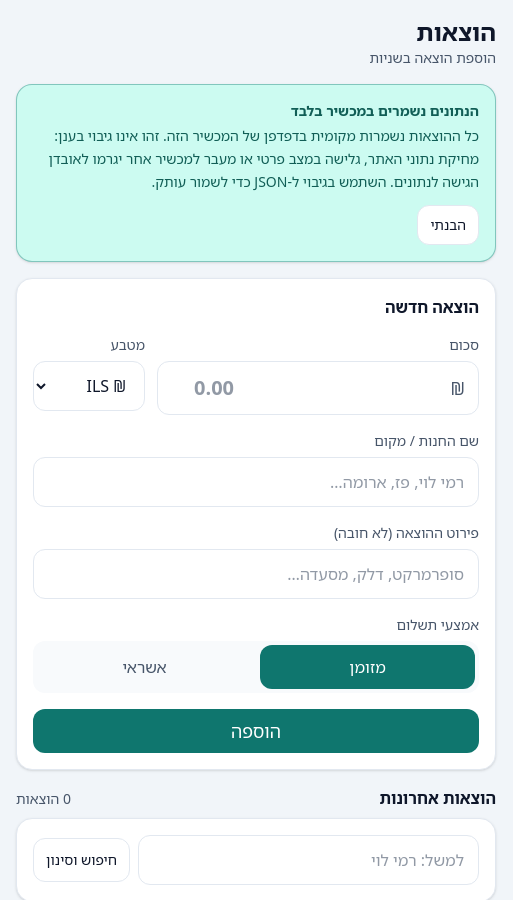
Test: App › מוסיף הוצאה, מציג אותה ברשימה ומעדכן את הסיכומים
Step 1. Type "25.50" into the field labelled "סכום" → [318, 388], box [157,361,479,415]
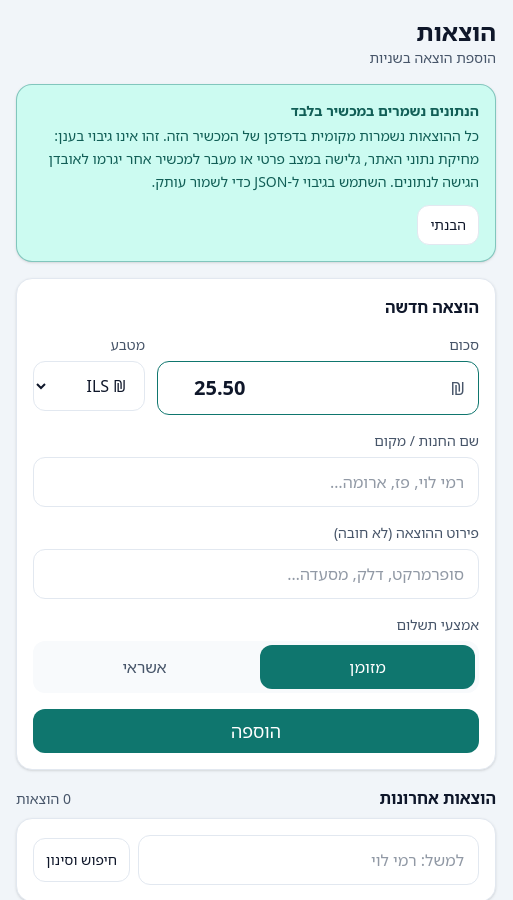
Step 2. Type "פז" into the field labelled "שם החנות / מקום" → [256, 482], box [33,457,479,507]
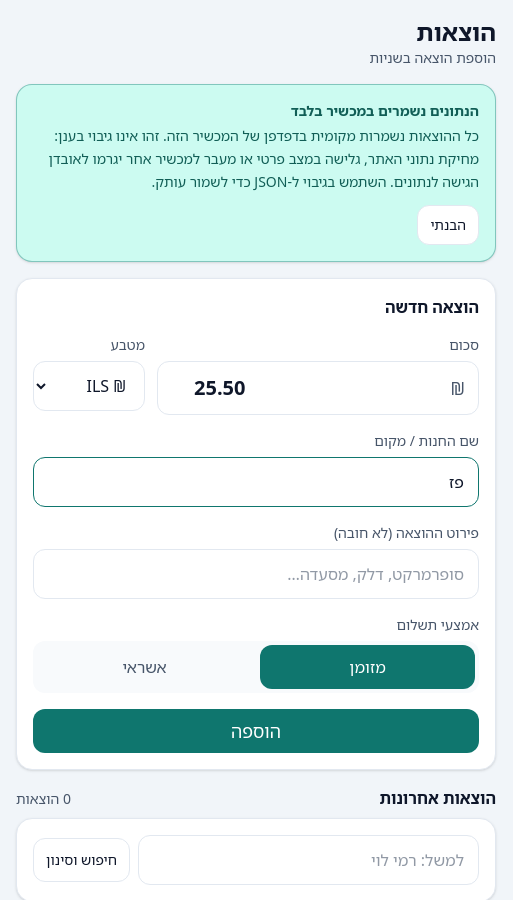
Step 3. Type "דלק 95" into the field labelled "פירוט ההוצאה (לא חובה)" → [256, 574], box [33,549,479,599]
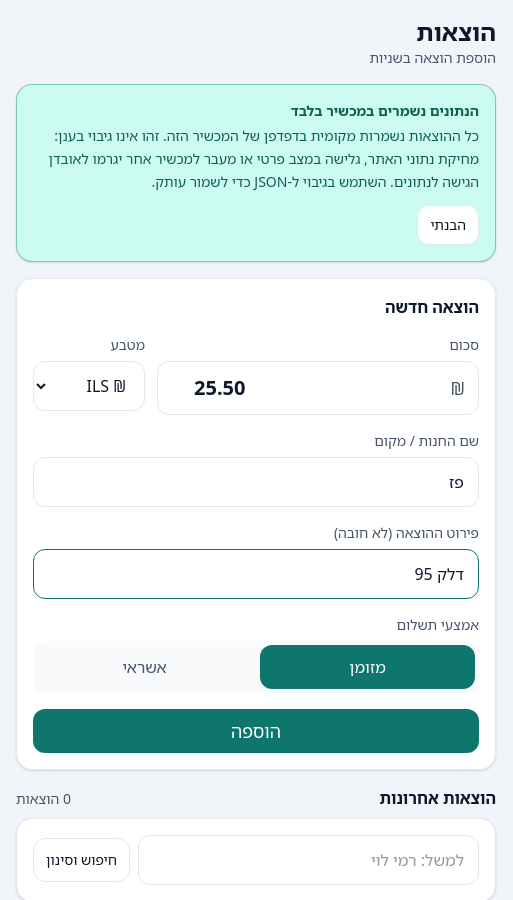
Step 4. Click the button "הוספה" → [256, 731], box [33,709,479,753]
(page scrolled)
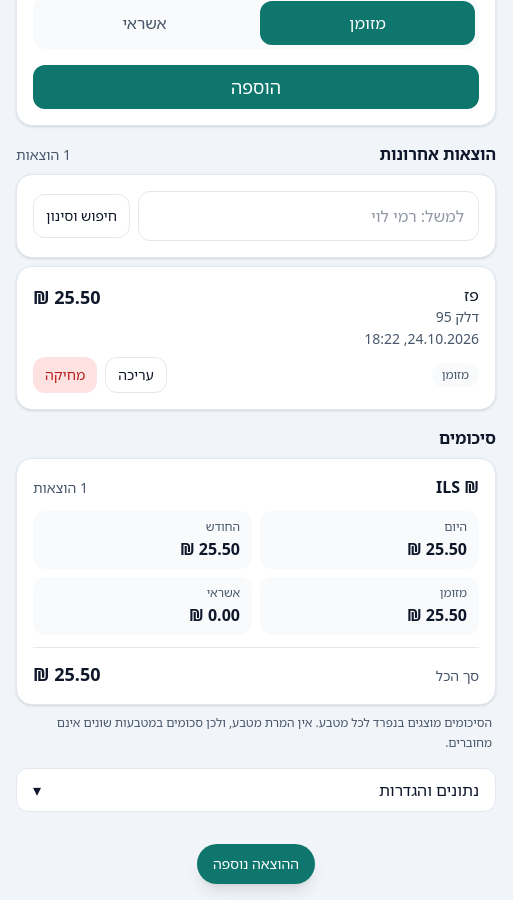
Expected: the text "פז" is shown, [464,284,479,306]
Expected: the text "ההוצאה נוספה" is shown, [197,844,315,884]
Expected: the text "דלק 95" is shown, [436,307,479,326]
